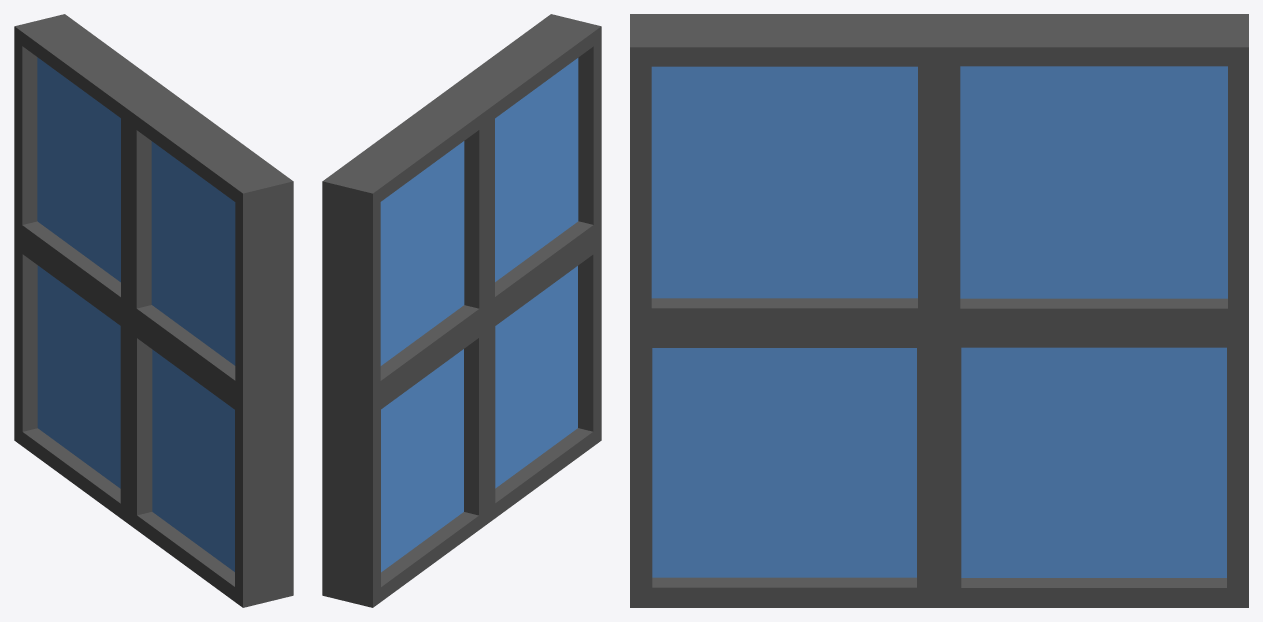
The model's file is Jendela.fbx.
3 views of the same model, side by side, from view 1: azimuth 30°, elevation 25°; view 2: azimuth 150°, elevation 25°; view 3: azimuth 270°, elevation 25° (orthographic). The views are drawn at different scales.
Visible parts, largest first — view 1: Cube.035; view 2: Cube.035; view 3: Cube.035.
Part boxes in pixels (x1,y1,x2,y2): Cube.035: (14, 14, 293, 607); Cube.035: (322, 14, 601, 607); Cube.035: (630, 14, 1248, 607).
Bounding box in the file's own units: 25.46 × 200 × 200.
